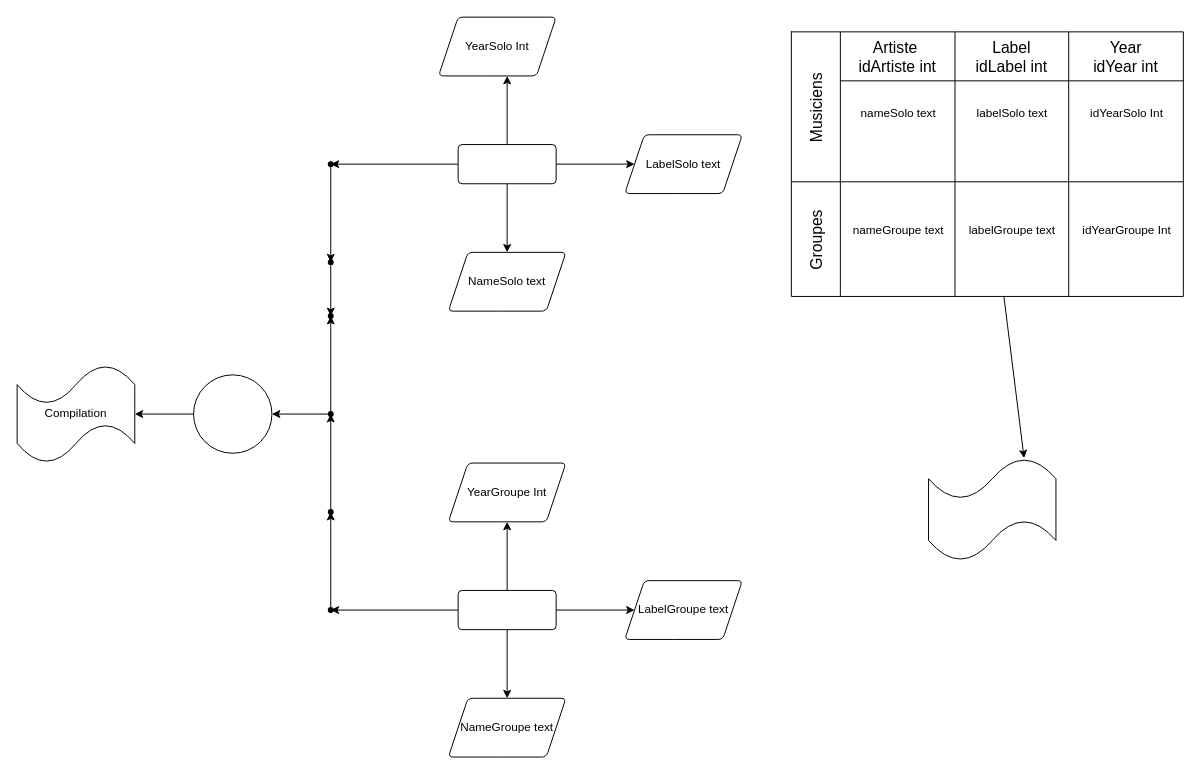
The diagram is 1201 pixels wide and 774 high, and some of its shapes have lost their labels. Each missing label, with the box of its shape:
Artistes IdArtiste Int: (193, 374, 272, 453)
Groupes IdGroupe Int: (457, 589, 556, 630)
Musiciens IdSolo Int: (457, 144, 556, 184)
Sans Compilation: (928, 457, 1056, 561)
